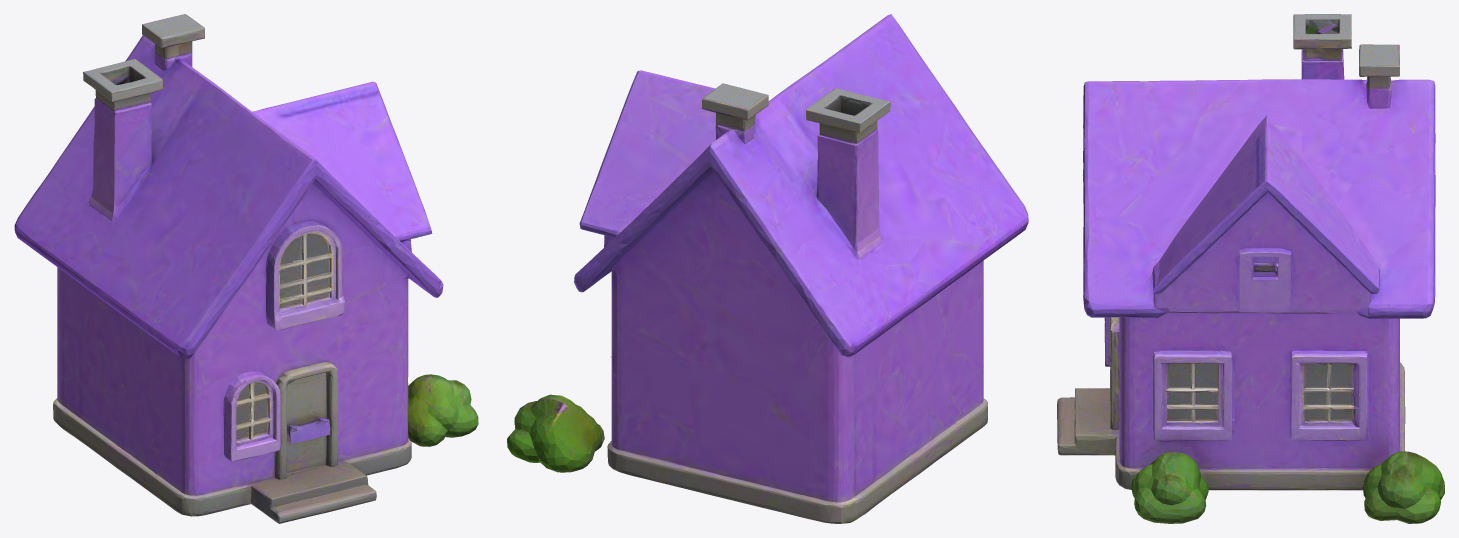
File: house_d.glb
3 views of the same model, side by side, from view 1: azimuth 30°, elevation 25°; view 2: azimuth 150°, elevation 25°; view 3: azimuth 270°, elevation 25° (orthographic). The views are drawn at different scales.
Visible parts, largest first — view 1: temp_Material.001_0; view 2: temp_Material.001_0; view 3: temp_Material.001_0.
Part boxes in pixels (x1=…): temp_Material.001_0: x1=14, y1=14, x2=478, y2=523; temp_Material.001_0: x1=507, y1=14, x2=1028, y2=523; temp_Material.001_0: x1=1057, y1=14, x2=1444, y2=523.
Bounding box in the file's own units: 1.87 × 2 × 1.86.
1 material, 1 textured.
